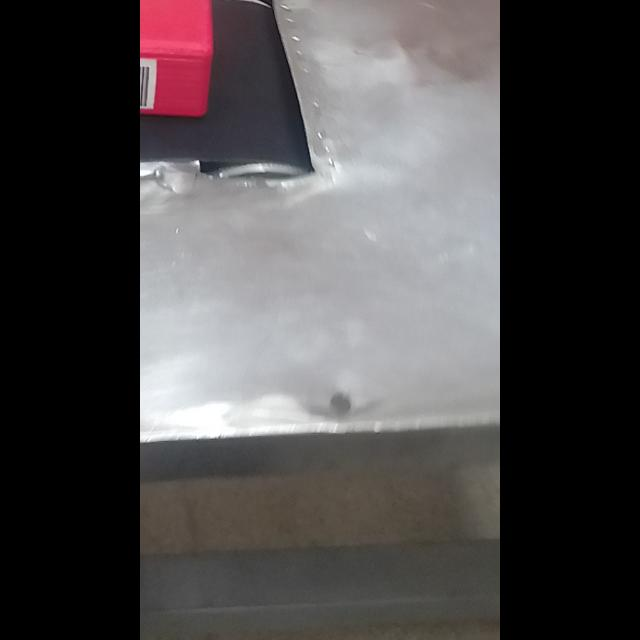redBox: (140, 0, 232, 126)
